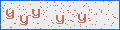y: (31, 8, 41, 19), (6, 9, 15, 20), (20, 15, 29, 26), (78, 14, 87, 24), (55, 15, 64, 24)
